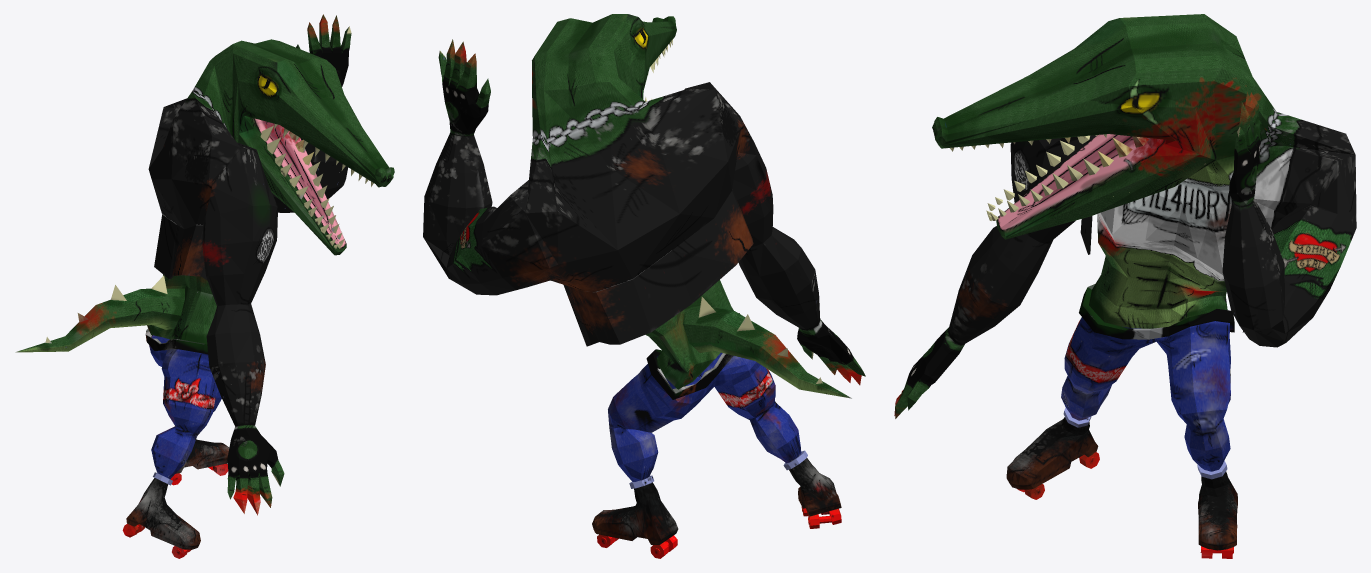
The model's file is cocodrilaBonesSelect_000064.obj.
3 renders of one model, left to right at view 1: azimuth 30°, elevation 25°; view 2: azimuth 150°, elevation 25°; view 3: azimuth 270°, elevation 25°, orthographic. The views are drawn at different scales.
Visible parts, largest first — view 1: Crocodile.002_Cylinder.002; view 2: Crocodile.002_Cylinder.002; view 3: Crocodile.002_Cylinder.002.
Part boxes in pixels (x1,y1,x2,y2): Crocodile.002_Cylinder.002: (15,14,394,558); Crocodile.002_Cylinder.002: (423,14,865,558); Crocodile.002_Cylinder.002: (894,14,1356,558).
Size of the model in its own units: 5.24 by 6.16 by 4.63.
